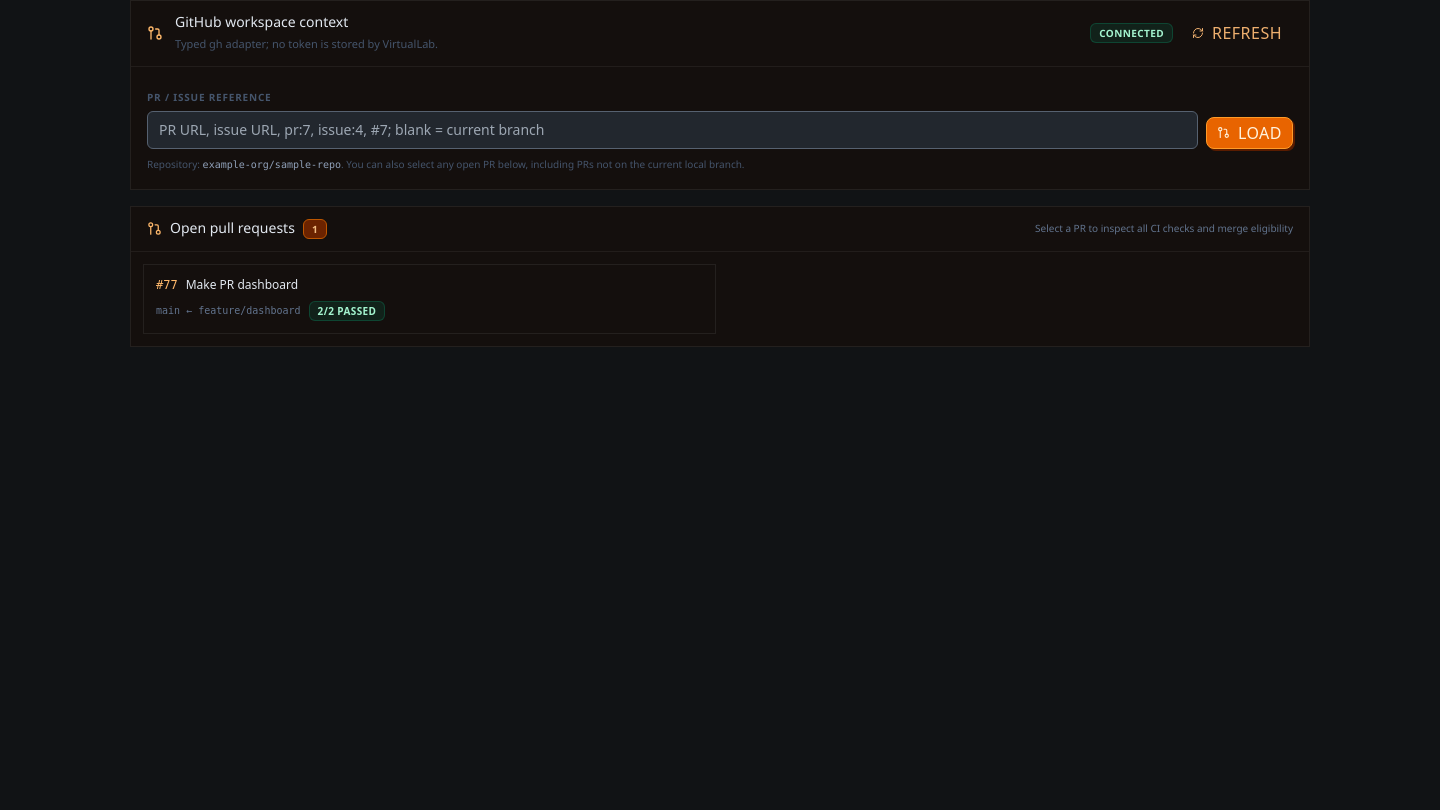
Test: GithubPanel › merges only with explicit user approval, passing the exact inspected HEAD
Click the button with aria-label "Open PR #77" at (242, 284), box x1=143 y1=264 x2=716 y2=334
(page scrolled)
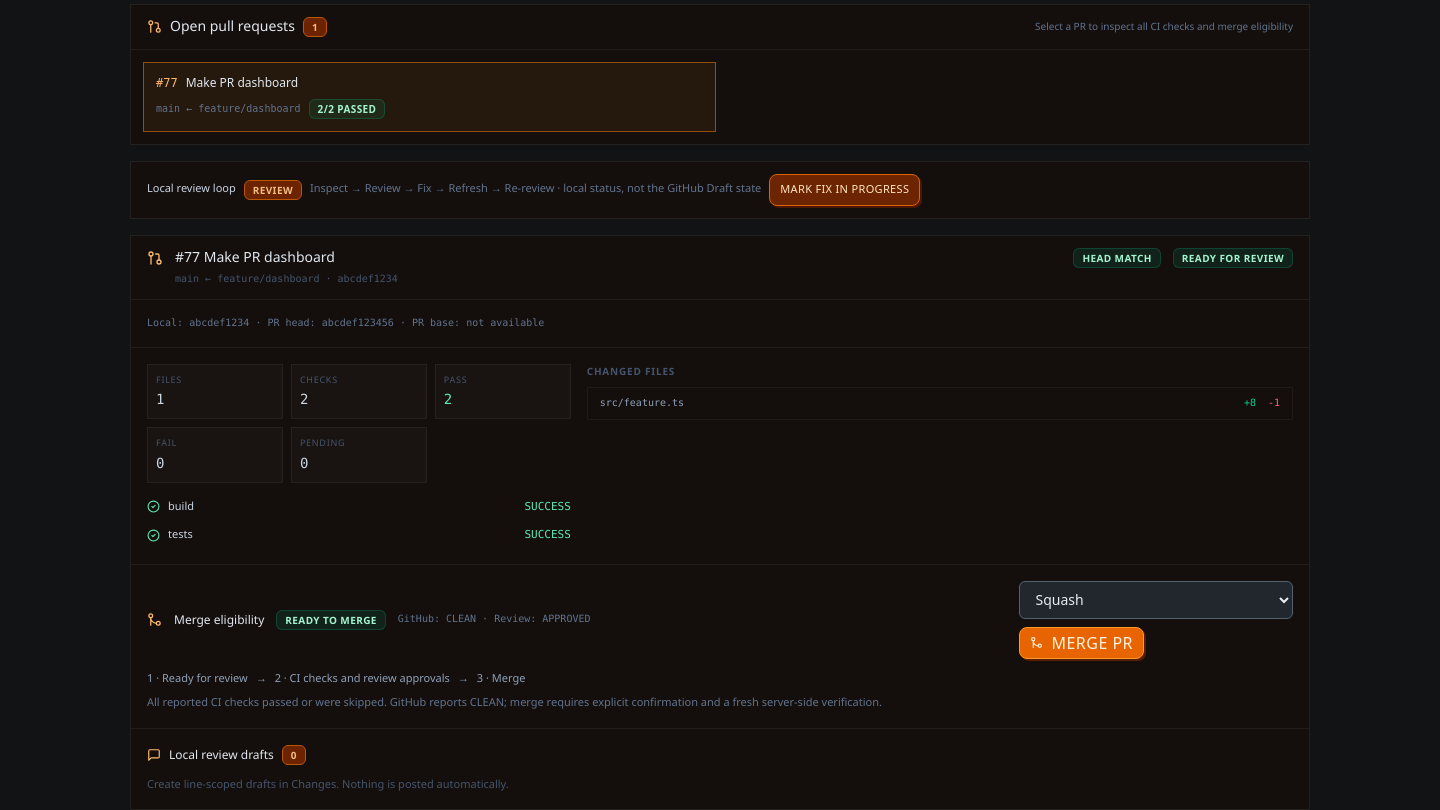
Expected: the text "#77 Make PR dashboard" is shown, x1=175 y1=248 x2=335 y2=266
Click the button "Merge PR" at (1082, 642), box x1=1020 y1=626 x2=1144 y2=658
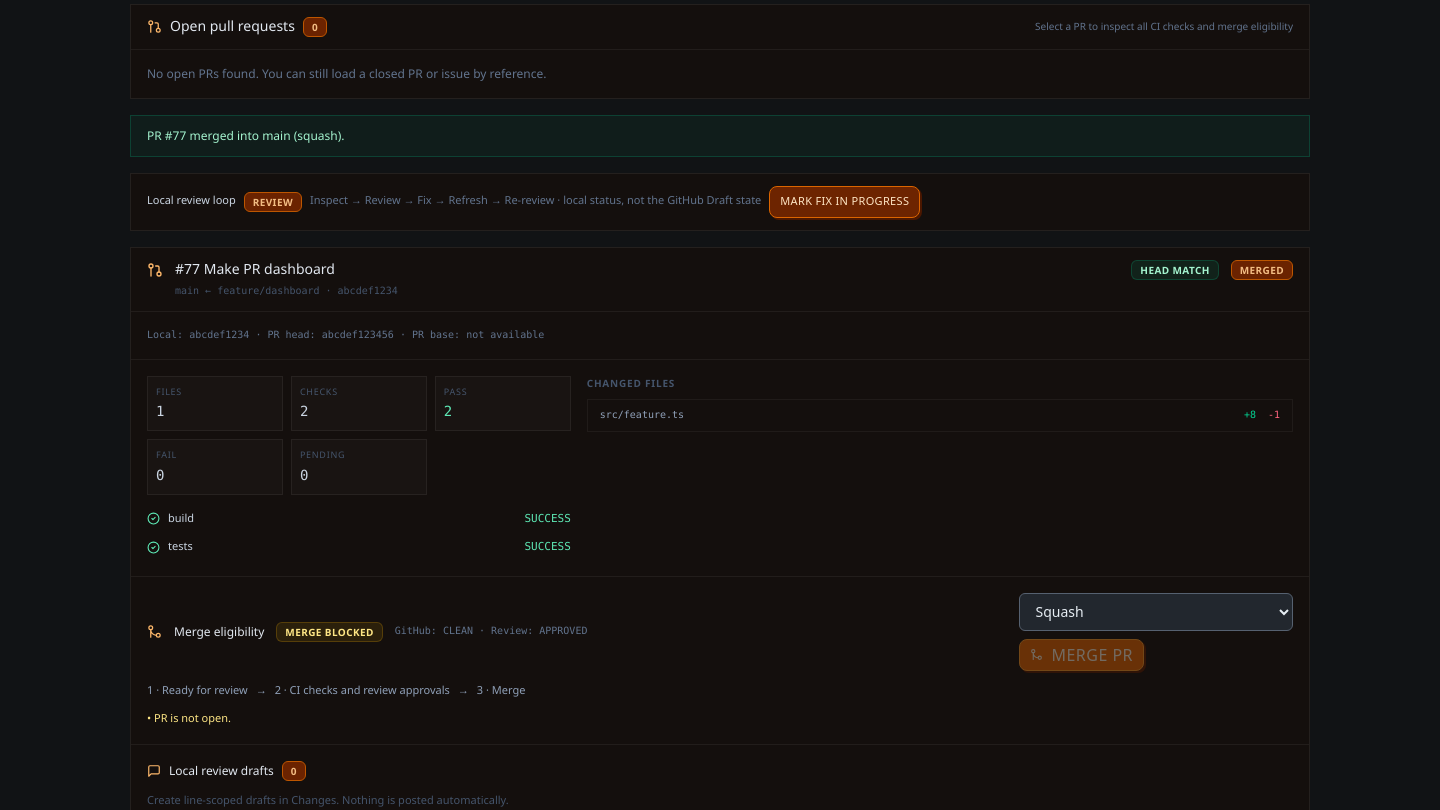
Expected: the message shows "PR #77 merged", x1=147 y1=126 x2=345 y2=144
Expected: the button "Merge PR" is disabled, x1=1020 y1=638 x2=1144 y2=670
